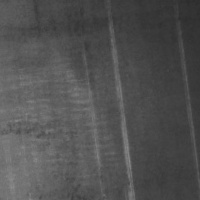scratches: (98, 14, 141, 199), (173, 24, 199, 198)
